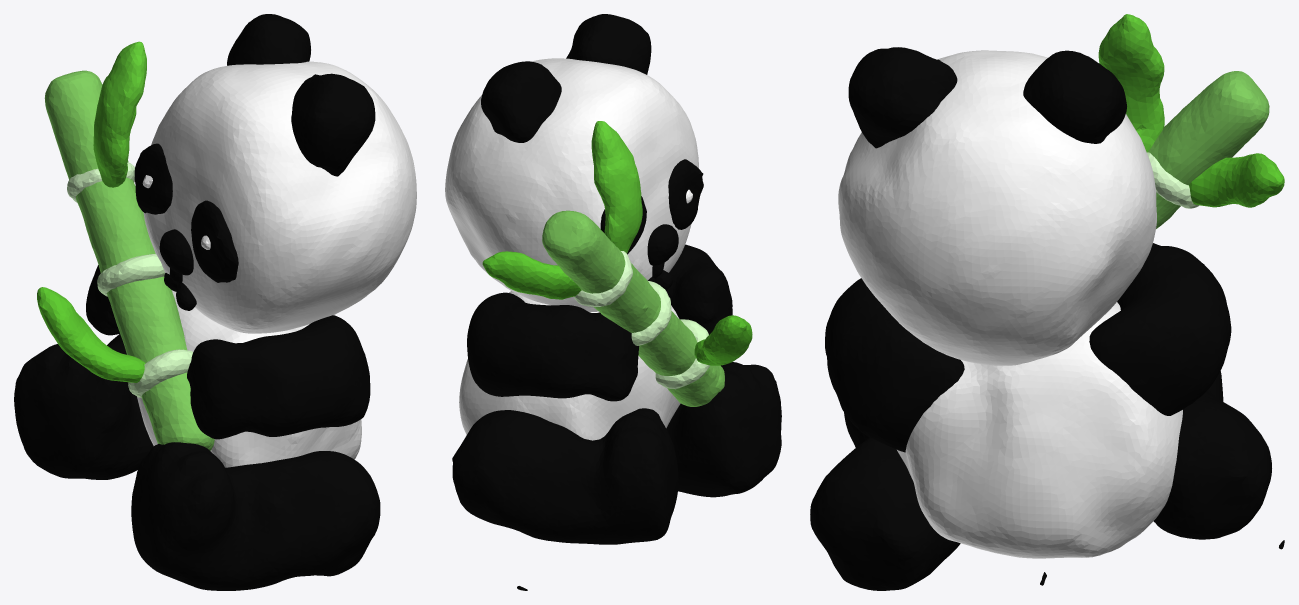
Rendered from panda.obj.
3 views of the same model, side by side, from view 1: azimuth 30°, elevation 25°; view 2: azimuth 150°, elevation 25°; view 3: azimuth 270°, elevation 25° (orthographic). The views are drawn at different scales.
Bounding box in the file's own units: 0.42 × 0.6079 × 0.461.
